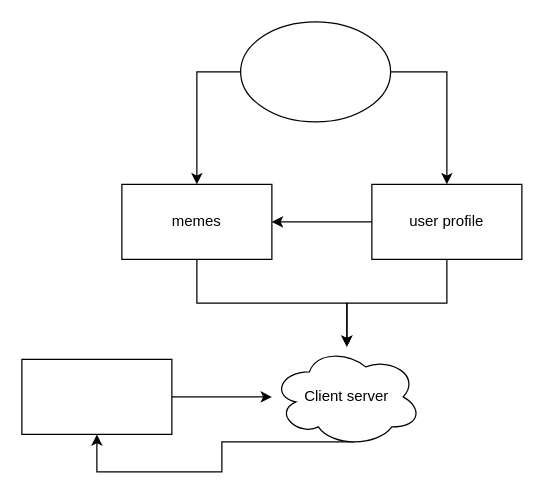
This 544x504 diagram has some shape labels left out. Each missing label, with the centre of its shape:
"IPFS" belongs at point (96, 396).
"Smart contract" belongs at point (315, 71).
